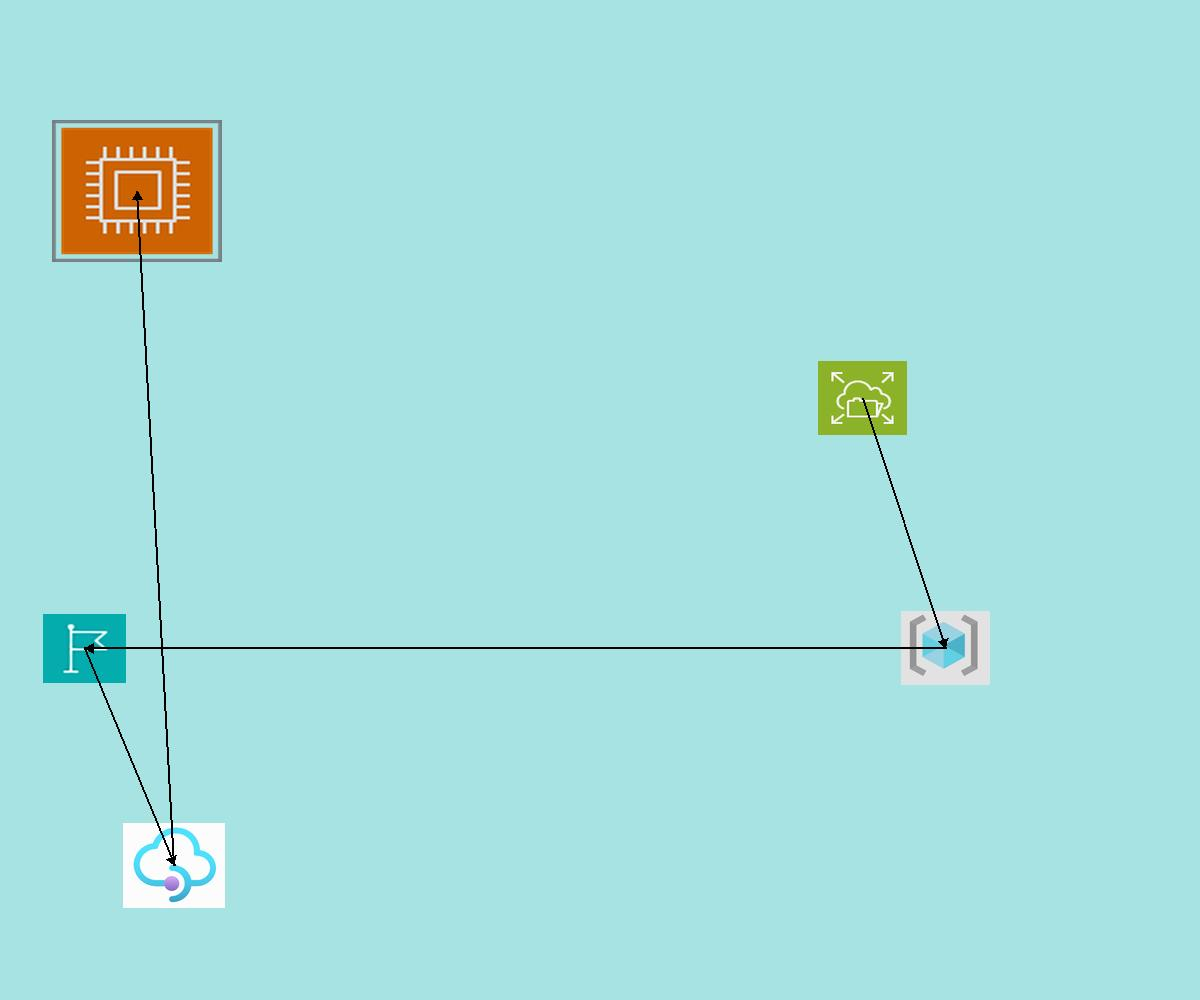AWS-Category_Compute: (52, 120, 222, 262)
AWS-EFS: (818, 361, 907, 435)
AWS-Region: (43, 614, 126, 683)
Azure_api_gateway: (123, 823, 225, 908)
Azure_resource_group: (901, 611, 990, 685)
